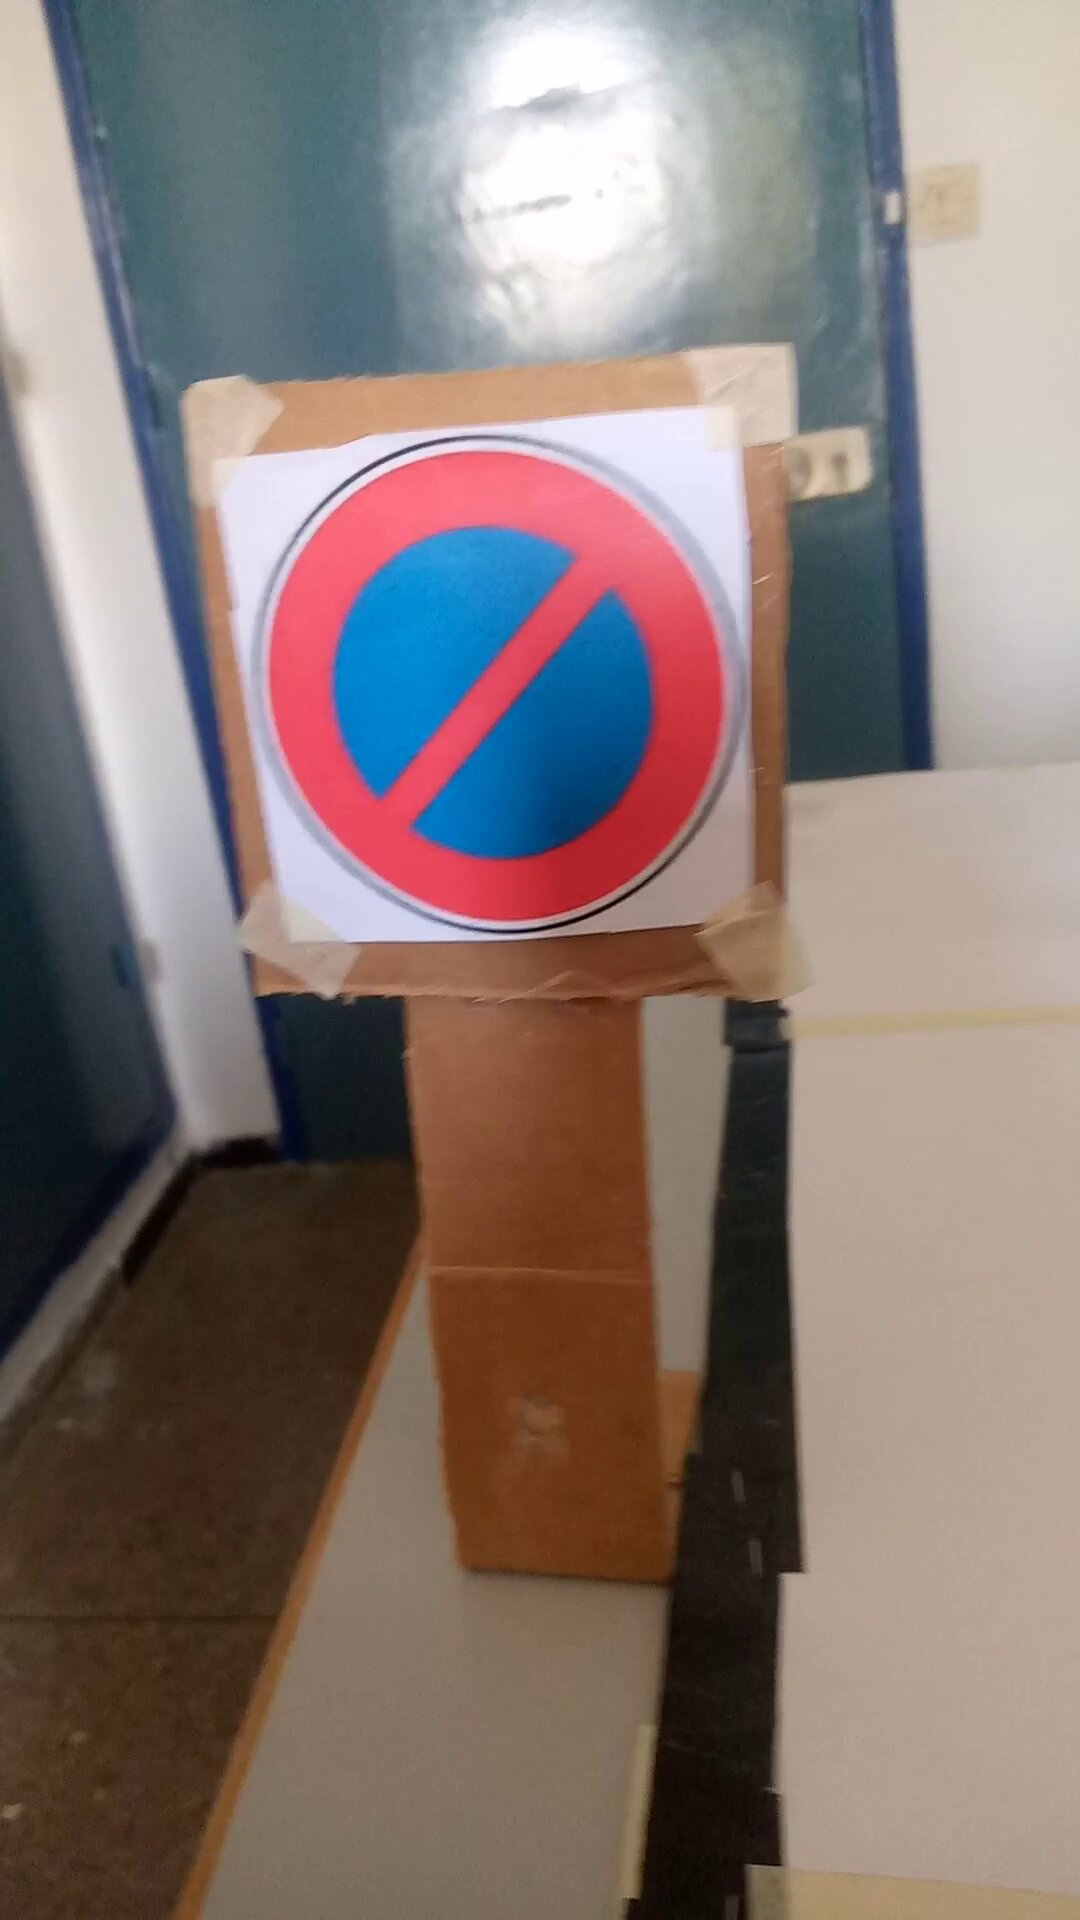panel110: (193, 458, 773, 940)
